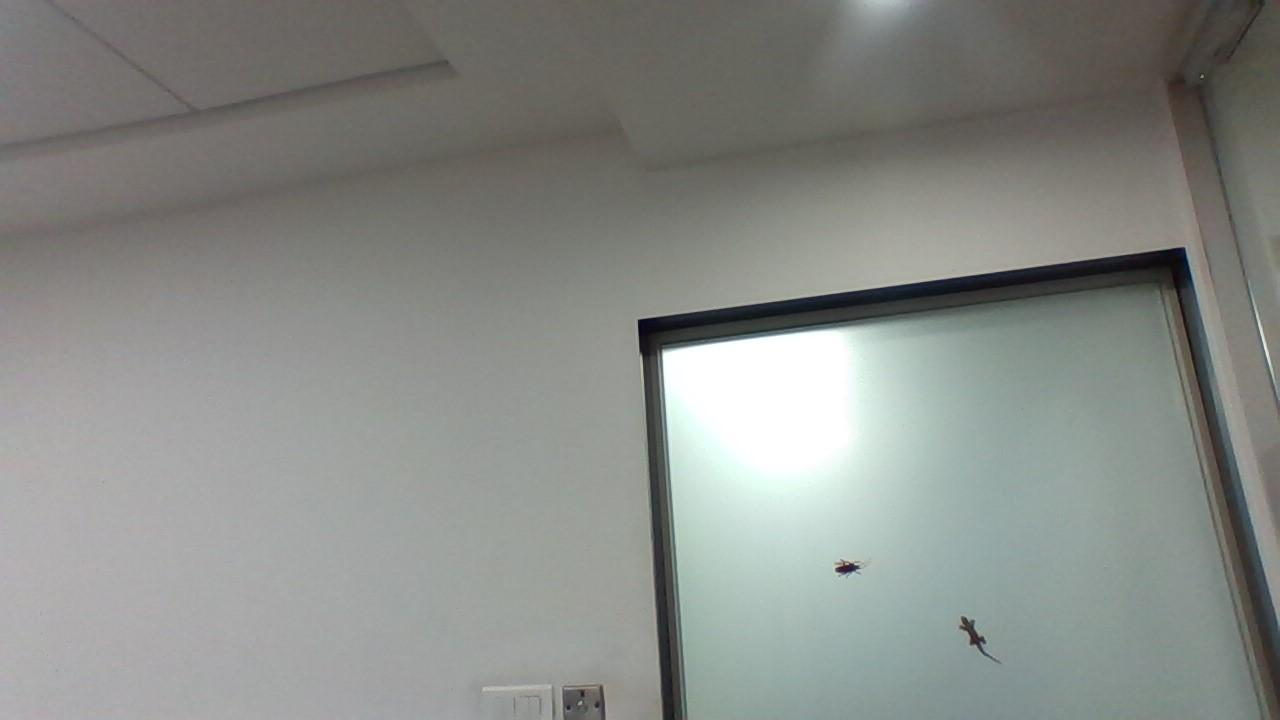cockroach: (830, 549, 873, 581)
lizard: (952, 603, 1000, 663)
